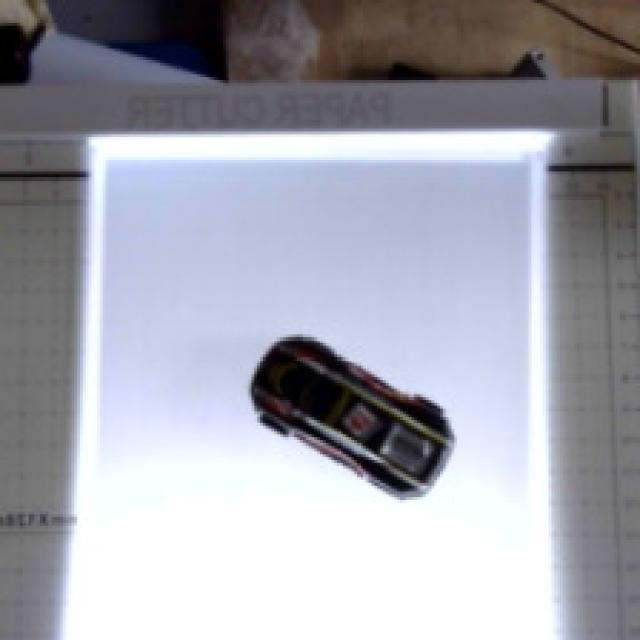Red Car: (215, 285, 488, 548)
